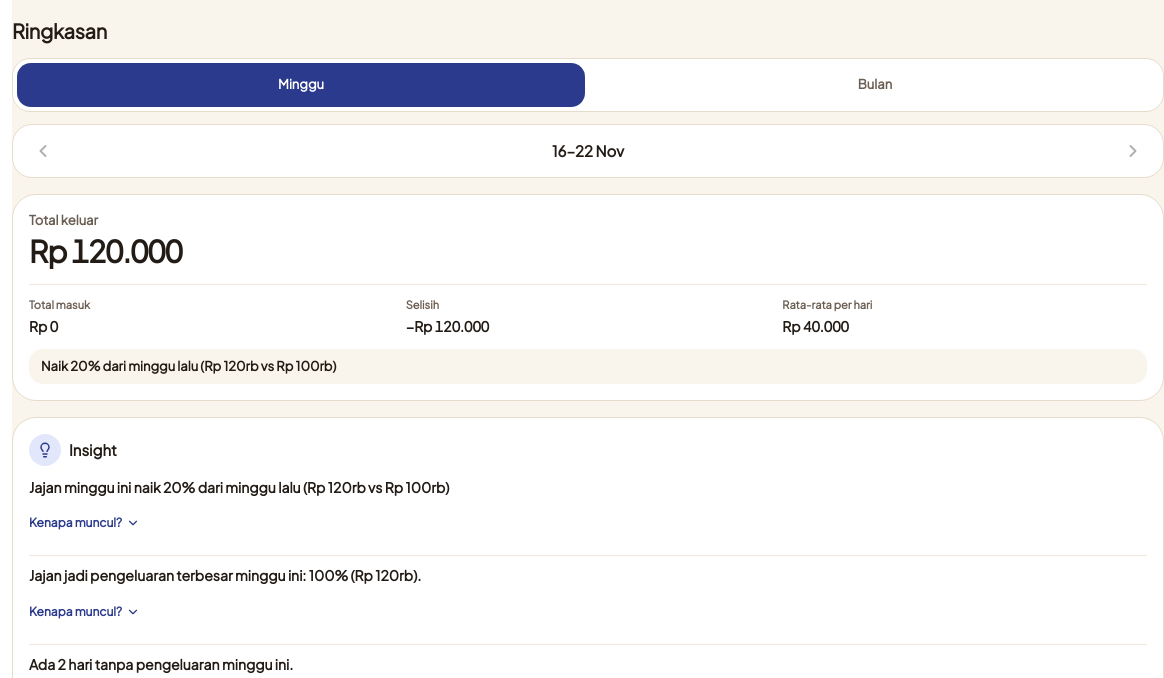
Test case: SummaryPage & History query filters (0.3.0 Tugas 3) › renders rule-based Insight card with accessible disclosure "Kenapa muncul?"
Expected: the text "Jajan minggu ini naik 20% dari minggu lalu (Rp 120rb vs Rp 100rb)" is shown, [29,478,449,496]
Click the 1st button "Kenapa muncul?". click: (85, 523)
box: [29,501,140,545]
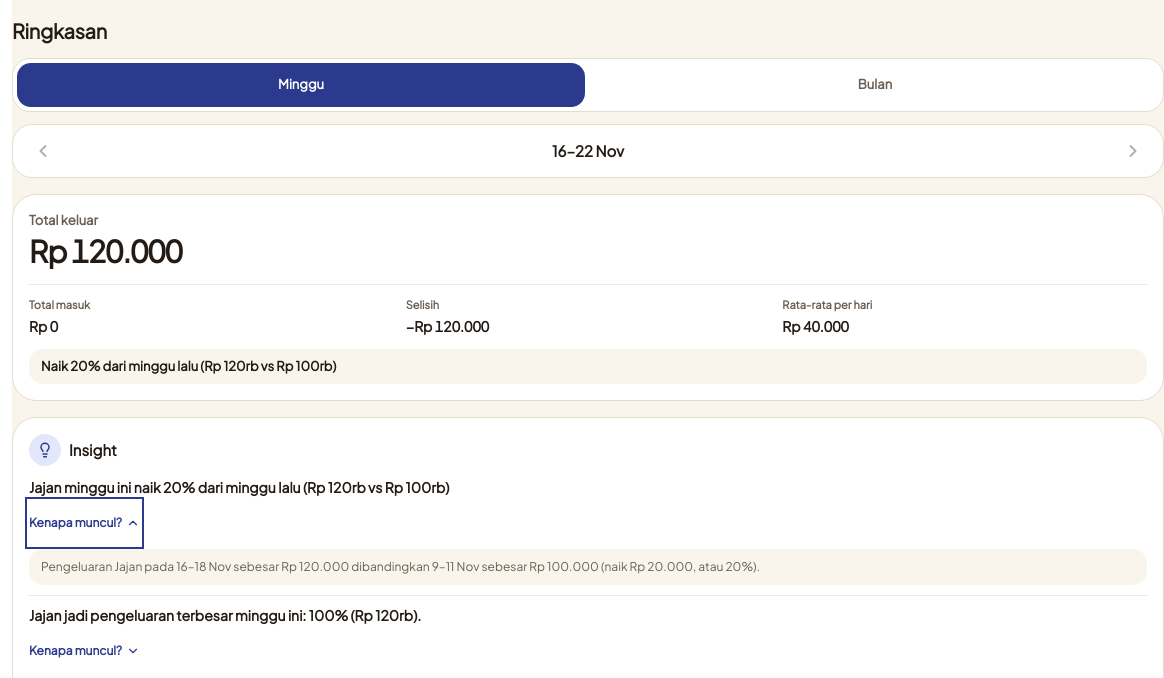
Now the 1st button "Kenapa muncul?" is expanded, box [29,501,140,545]
